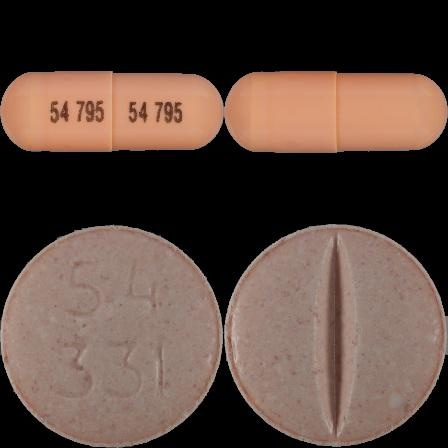0054-0079: (0, 0, 224, 224)
